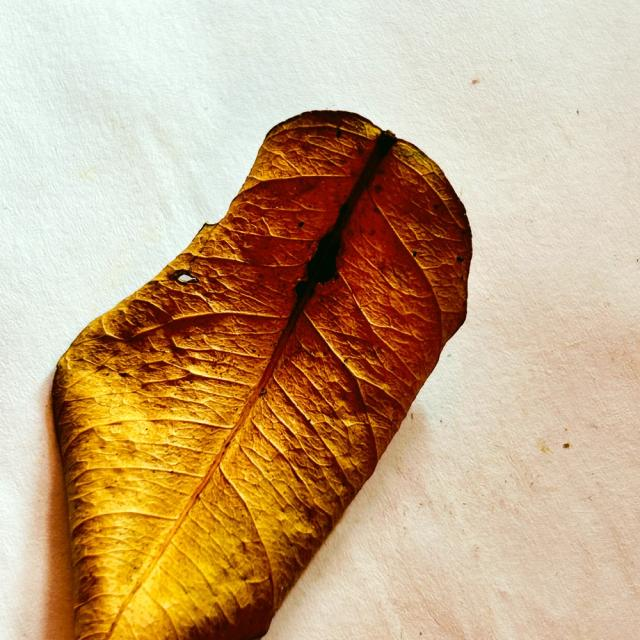DryLeaf_Lemon: (52, 111, 472, 639)
